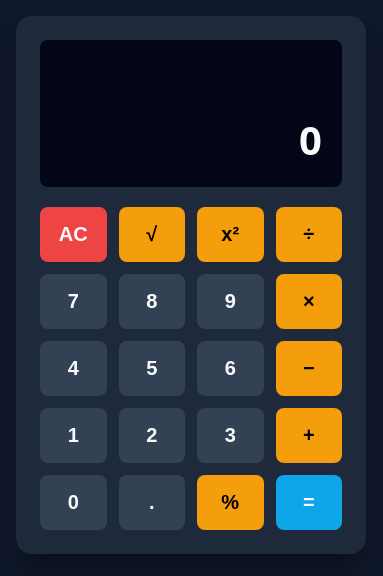
Test: Calculator Component › should concatenate numbers correctly when clicked
The image size is (383, 576).
Simulate clicks on buttons 7 and 5
Click the button "7": (73, 301) [40,274,106,329]
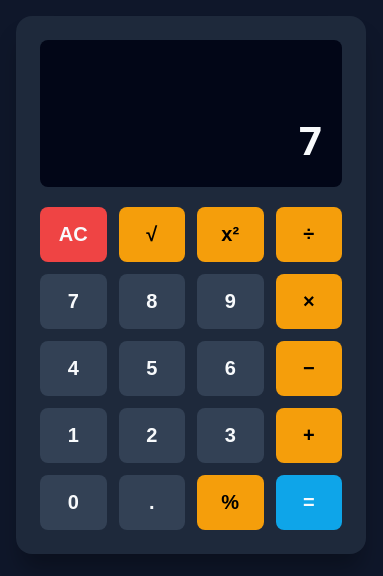
Click the button "5": (152, 368) [118,341,185,396]
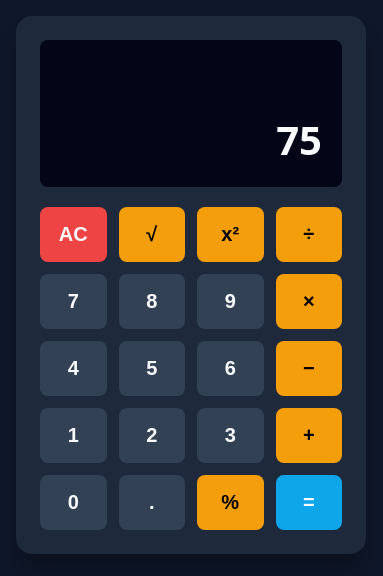
Expected: the text with class "display-value" reads "75", [276,112,322,167]
